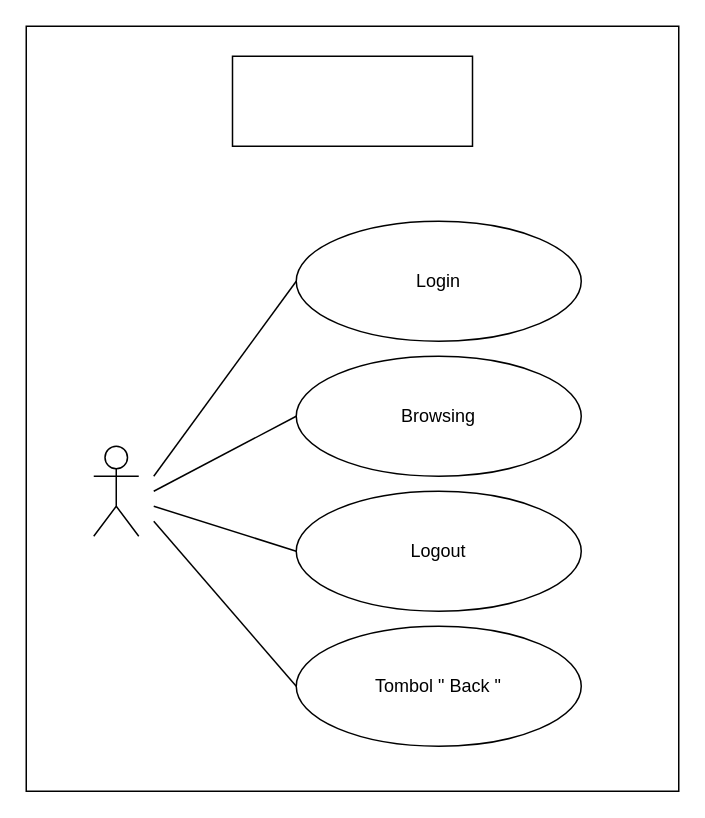
This 705x818 diagram has some shape labels left out. The shapes that lost their labels are listed below. From the top down, each one's centre as x and y in pixels, then its label:
the point at 351,100: USE CASE DIAGRAM
the point at 115,490: Actor
